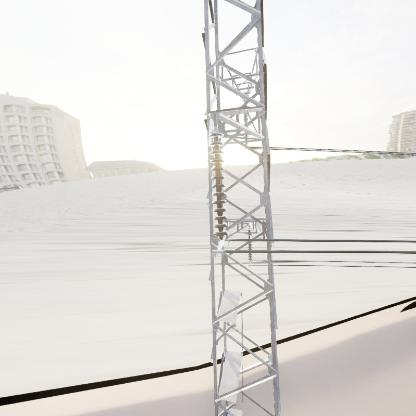insulator: (206, 131, 231, 238)
